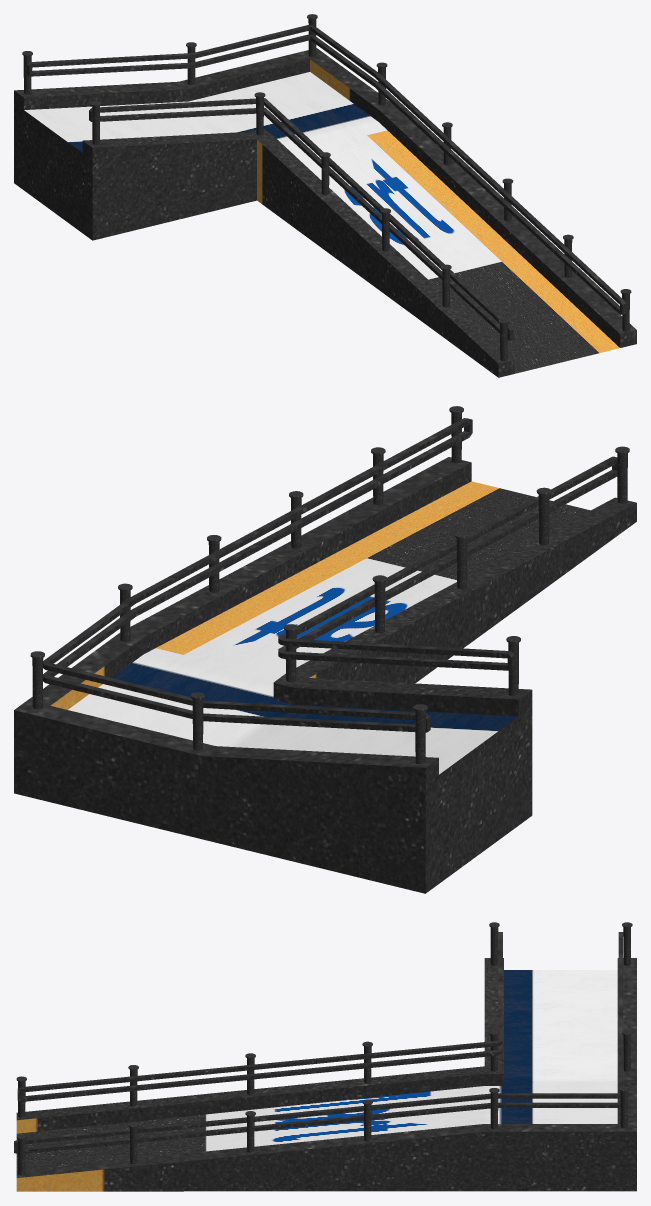
The model's file is Ramp2.fbx.
3 renders of one model, top to bottom at view 1: azimuth 30°, elevation 25°; view 2: azimuth 150°, elevation 25°; view 3: azimuth 270°, elevation 25°, orthographic. The views are drawn at different scales.
Parts seen in each view (by area): view 1: Ramp1, Railing_R, Railing_L; view 2: Ramp1, Railing_R, Railing_L, Pillar35; view 3: Ramp1, Railing_R, Railing_L.
Boxes of the visible parts, <box> form: Ramp1: <box>14,48,636,377</box>; Railing_R: <box>26,25,626,314</box>; Railing_L: <box>89,98,513,340</box>; Ramp1: <box>14,457,636,893</box>; Railing_R: <box>43,418,472,732</box>; Railing_L: <box>278,456,617,670</box>; Pillar35: <box>413,704,427,763</box>; Ramp1: <box>16,958,636,1191</box>; Railing_R: <box>14,932,623,1154</box>; Railing_L: <box>17,932,502,1101</box>.
Bounding box in the file's own units: 531 × 221 × 976.
